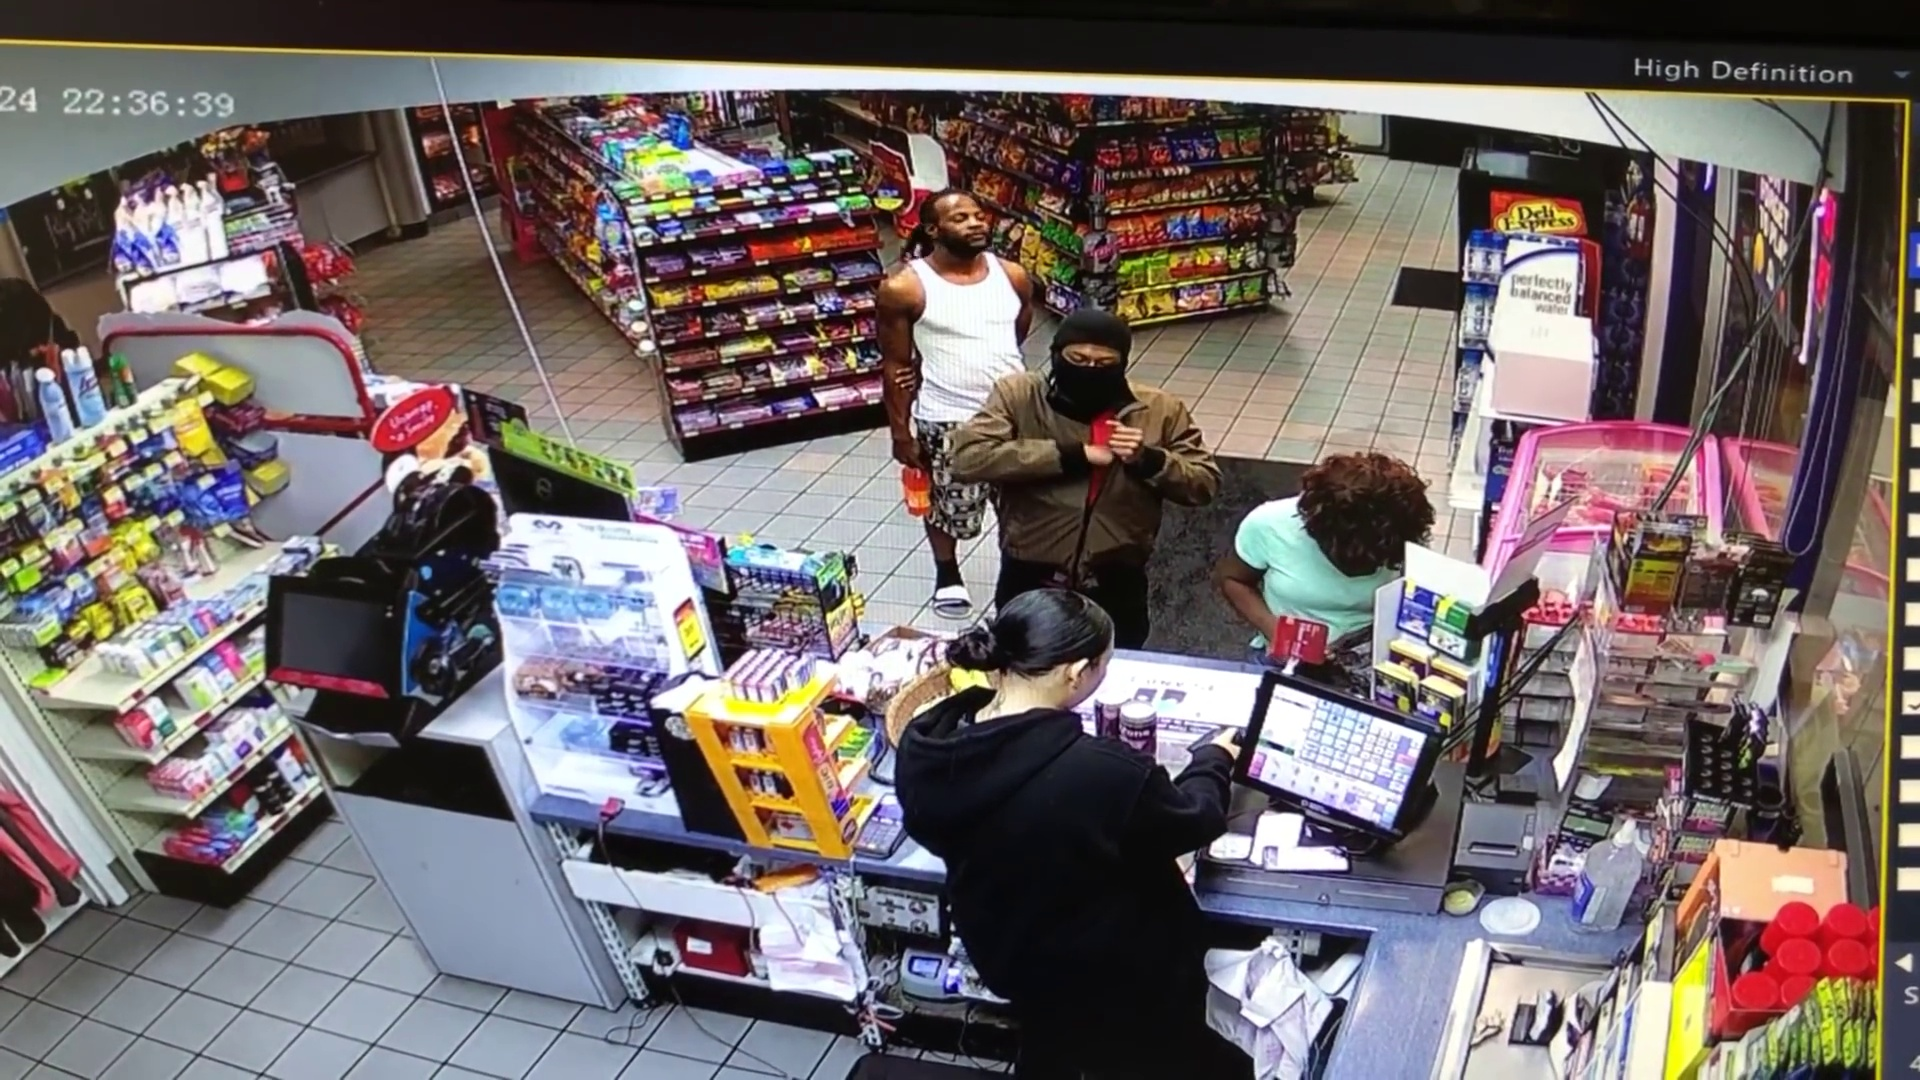face: (933, 190, 990, 249), (1066, 336, 1119, 391)
